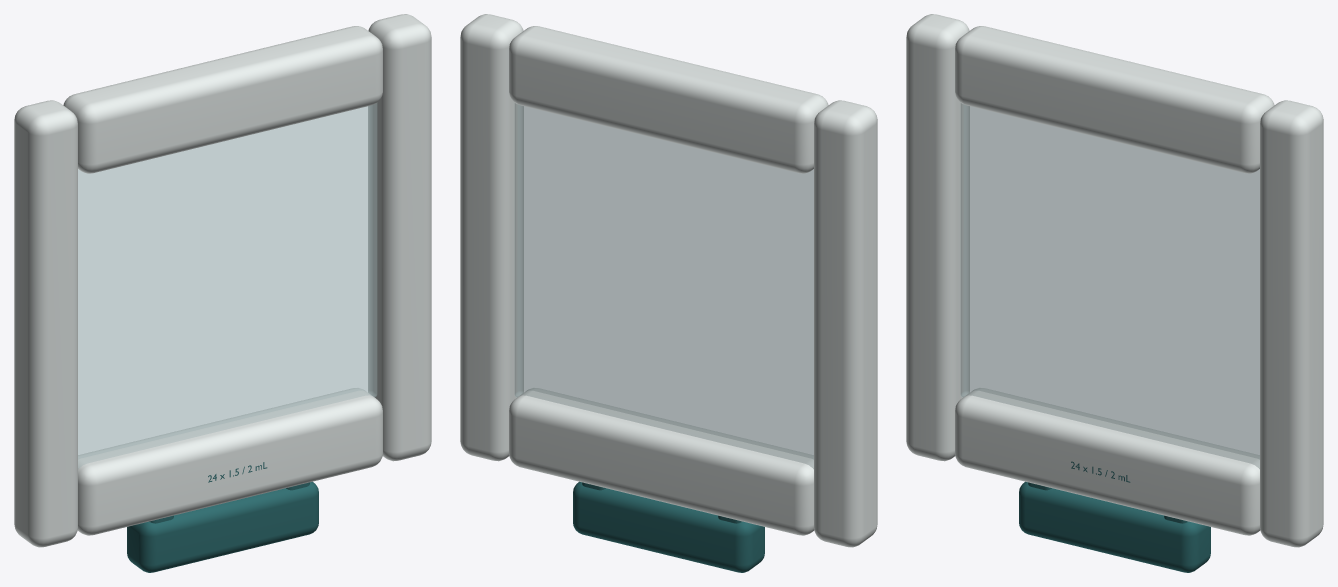
Rendered from lid.glb.
The picture shows the model from 3 angles, left to right: view 1: azimuth 30°, elevation 25°; view 2: azimuth 150°, elevation 25°; view 3: azimuth 330°, elevation 25°; orthographic projection.
Parts seen in each view (by area): view 1: viewing_window, lid_rail_left, lid_rail_right, lid_rail_rear, lid_rail_front, front_handle; view 2: viewing_window, lid_rail_left, lid_rail_right, lid_rail_rear, lid_rail_front, front_handle; view 3: viewing_window, lid_rail_right, lid_rail_left, lid_rail_rear, lid_rail_front, front_handle.
Boxes of the visible parts, left/top/right/bottom form: viewing_window: left=78, top=103, right=377, bottom=468; lid_rail_left: left=14, top=100, right=77, bottom=547; lid_rail_right: left=368, top=14, right=431, bottom=461; lid_rail_rear: left=63, top=26, right=382, bottom=173; lid_rail_front: left=77, top=388, right=382, bottom=535; front_handle: left=127, top=481, right=318, bottom=572; viewing_window: left=514, top=103, right=813, bottom=468; lid_rail_left: left=814, top=100, right=877, bottom=547; lid_rail_right: left=460, top=14, right=523, bottom=461; lid_rail_rear: left=509, top=26, right=828, bottom=173; lid_rail_front: left=509, top=388, right=814, bottom=535; front_handle: left=573, top=481, right=764, bottom=572; viewing_window: left=960, top=103, right=1259, bottom=468; lid_rail_right: left=1260, top=100, right=1323, bottom=547; lid_rail_left: left=906, top=14, right=969, bottom=461; lid_rail_rear: left=955, top=26, right=1274, bottom=173; lid_rail_front: left=955, top=388, right=1260, bottom=535; front_handle: left=1019, top=481, right=1210, bottom=572.
Bounding box in the file's own units: 0.207 × 0.238 × 0.025.
